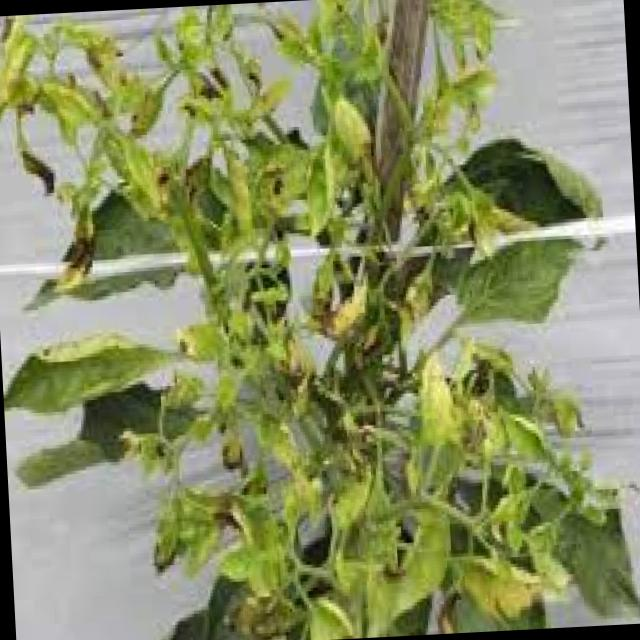Chilli_Leaf_Curl: (0, 0, 640, 640), (425, 128, 611, 329), (1, 322, 186, 418)
